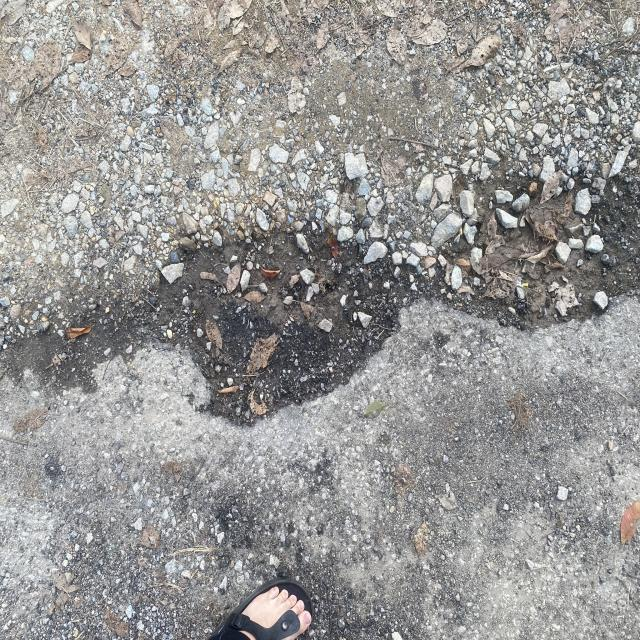Pothole: (103, 158, 640, 404)
